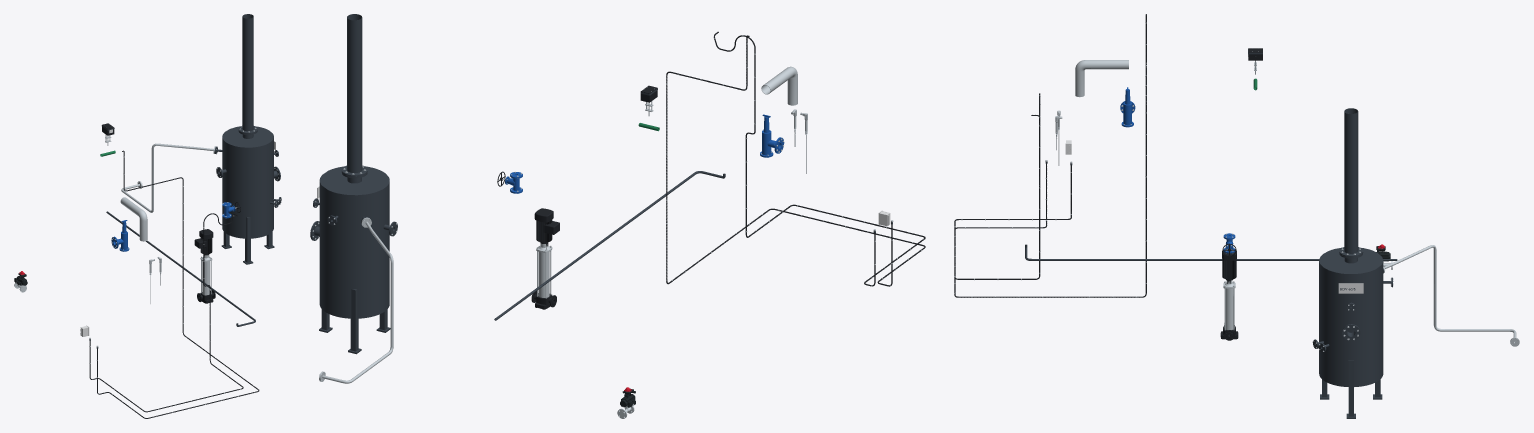
The picture shows the model from 3 angles, left to right: view 1: azimuth 30°, elevation 25°; view 2: azimuth 150°, elevation 25°; view 3: azimuth 270°, elevation 25°; orthographic projection. The views are drawn at different scales.
Visible parts, largest first — view 1: separator_bdv60_5 / dark, bdv_vent / dark, gpz_drive_cable / black, wiring_pressure_switch_2 / black, trap_gap_to_bdv / steel, tds_common / dark, steam_rise / steel, pump_2 CAD solid 15, safety_1 / blue, pump_2 CAD solid 2; view 2: separator_bdv60_5 / dark, bdv_vent / dark, gpz_drive_cable / black, wiring_pressure_switch_2 / black, trap_gap_to_bdv / steel, tds_common / dark, steam_rise / steel, pump_2 CAD solid 15; view 3: separator_bdv60_5 / dark, bdv_vent / dark, gpz_drive_cable / black, wiring_pressure_switch_2 / black, trap_gap_to_bdv / steel, steam_rise / steel, tds_common / dark.
Boxes of the visible parts, x1,y1,x2,y2 form: separator_bdv60_5 / dark: (214, 126, 281, 264); bdv_vent / dark: (238, 14, 257, 133); gpz_drive_cable / black: (97, 150, 259, 418); wiring_pressure_switch_2 / black: (89, 213, 243, 412); trap_gap_to_bdv / steel: (121, 143, 215, 212); tds_common / dark: (106, 211, 255, 326); steam_rise / steel: (120, 197, 147, 241); pump_2 CAD solid 15: (194, 229, 213, 254); safety_1 / blue: (111, 220, 129, 251); pump_2 CAD solid 2: (202, 261, 210, 295); separator_bdv60_5 / dark: (310, 166, 397, 354); bdv_vent / dark: (341, 14, 367, 176); gpz_drive_cable / black: (666, 35, 925, 286); wiring_pressure_switch_2 / black: (713, 31, 925, 286); trap_gap_to_bdv / steel: (319, 217, 393, 383); tds_common / dark: (494, 171, 725, 320); steam_rise / steel: (761, 66, 797, 105); pump_2 CAD solid 15: (534, 208, 559, 243); separator_bdv60_5 / dark: (1312, 247, 1392, 418); bdv_vent / dark: (1339, 108, 1362, 257); gpz_drive_cable / black: (954, 14, 1146, 297); wiring_pressure_switch_2 / black: (954, 93, 1071, 279); trap_gap_to_bdv / steel: (1383, 245, 1519, 346); steam_rise / steel: (1075, 60, 1128, 97); tds_common / dark: (1025, 244, 1397, 260).
Size of the model in its own units: 5.3 by 3.85 by 6.74.
